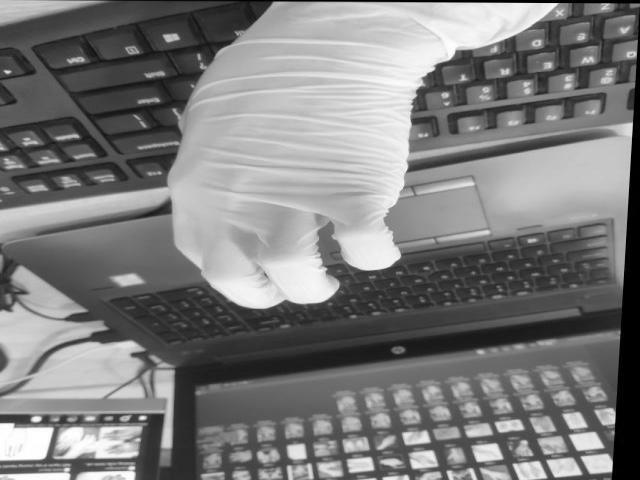gloved: (170, 0, 418, 309)
